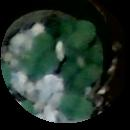Basil: (87, 34, 112, 77), (65, 94, 97, 124), (66, 20, 94, 50), (36, 37, 57, 74), (66, 61, 91, 90), (57, 18, 81, 40)
